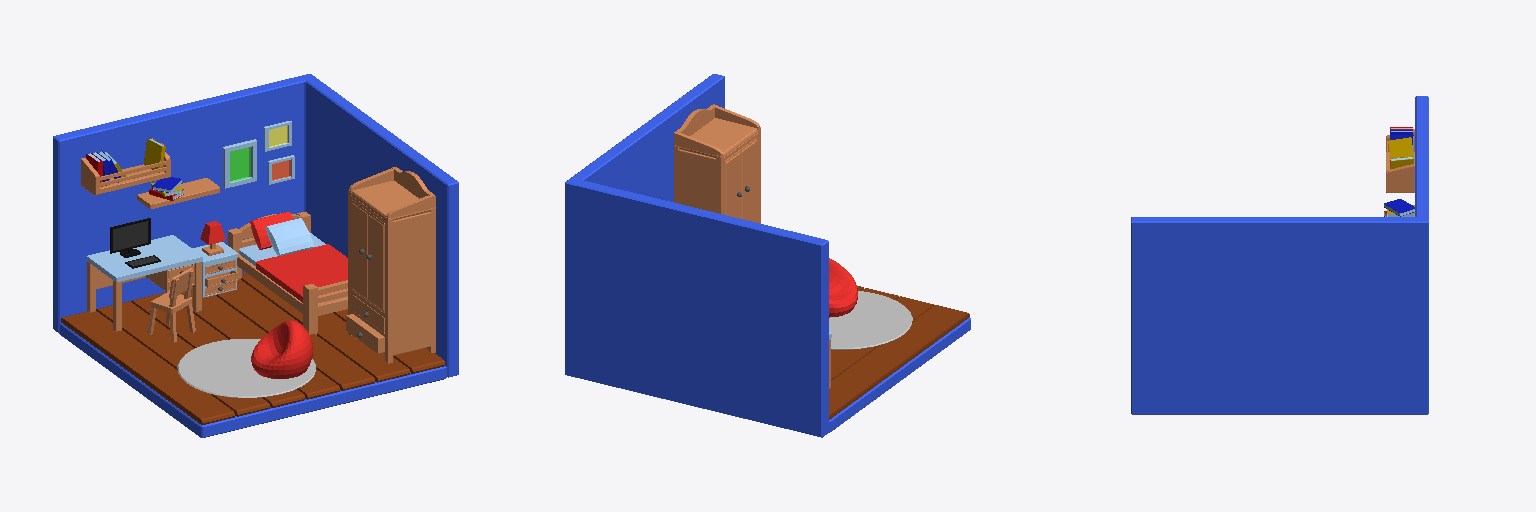
Rendered from triModel.obj.
The picture shows the model from 3 angles: view 1: azimuth 30°, elevation 25°; view 2: azimuth 150°, elevation 25°; view 3: azimuth 270°, elevation 25°; orthographic projection.
Visible parts, largest first — view 1: Wardrobe_1_Cube.019; view 2: Wardrobe_1_Cube.019; view 3: Wardrobe_1_Cube.019.
Boxes of the visible parts, x1=… form: Wardrobe_1_Cube.019: x1=53, y1=74, x2=458, y2=437; Wardrobe_1_Cube.019: x1=565, y1=74, x2=970, y2=437; Wardrobe_1_Cube.019: x1=1131, y1=96, x2=1428, y2=414.
Bounding box in the file's own units: 8.4 × 6.03 × 8.4.